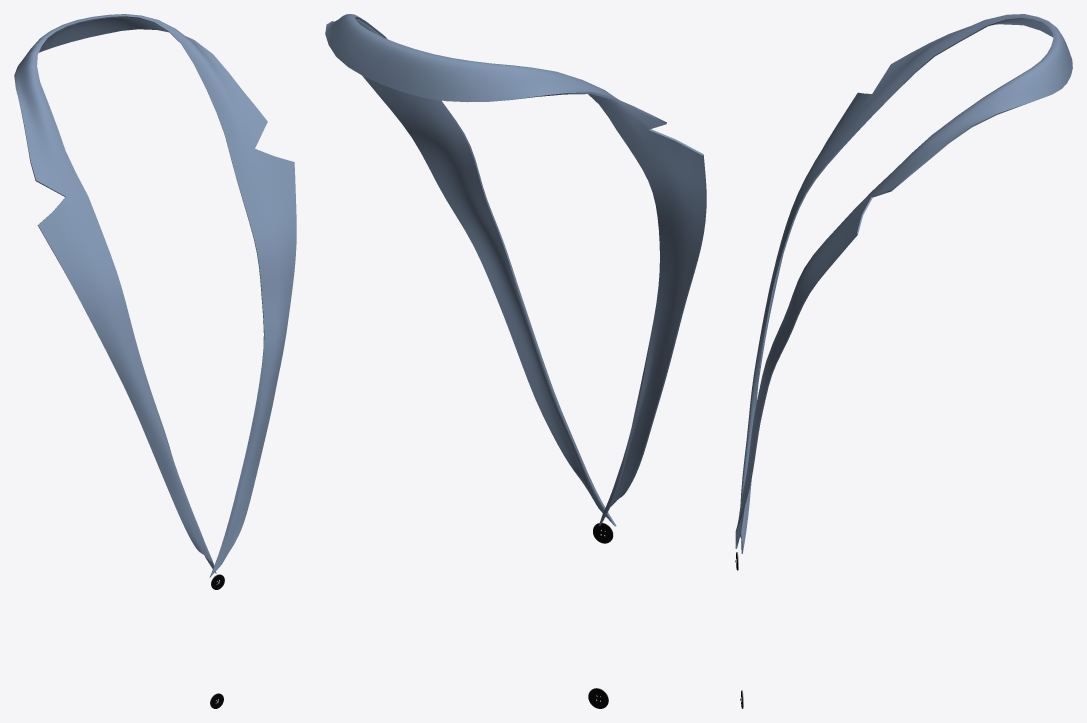
Rendered from SM_CarlosSA_Jacket_SingleBreasted_Lapel_Notched7CM.fbx.
The picture shows the model from 3 angles, left to right: view 1: azimuth 30°, elevation 25°; view 2: azimuth 150°, elevation 25°; view 3: azimuth 270°, elevation 25°; orthographic projection. The views are drawn at different scales.
Parts seen in each view (by area): view 1: SM_CarlosSA_Jacket_SingleBreasted_Lapel_Notched7CM; view 2: SM_CarlosSA_Jacket_SingleBreasted_Lapel_Notched7CM; view 3: SM_CarlosSA_Jacket_SingleBreasted_Lapel_Notched7CM.
Boxes of the visible parts, <box> form: SM_CarlosSA_Jacket_SingleBreasted_Lapel_Notched7CM: <box>14,14,296,708</box>; SM_CarlosSA_Jacket_SingleBreasted_Lapel_Notched7CM: <box>325,14,706,708</box>; SM_CarlosSA_Jacket_SingleBreasted_Lapel_Notched7CM: <box>735,14,1072,708</box>.
Bounding box in the file's own units: 0.2586 × 0.5674 × 0.2594.
